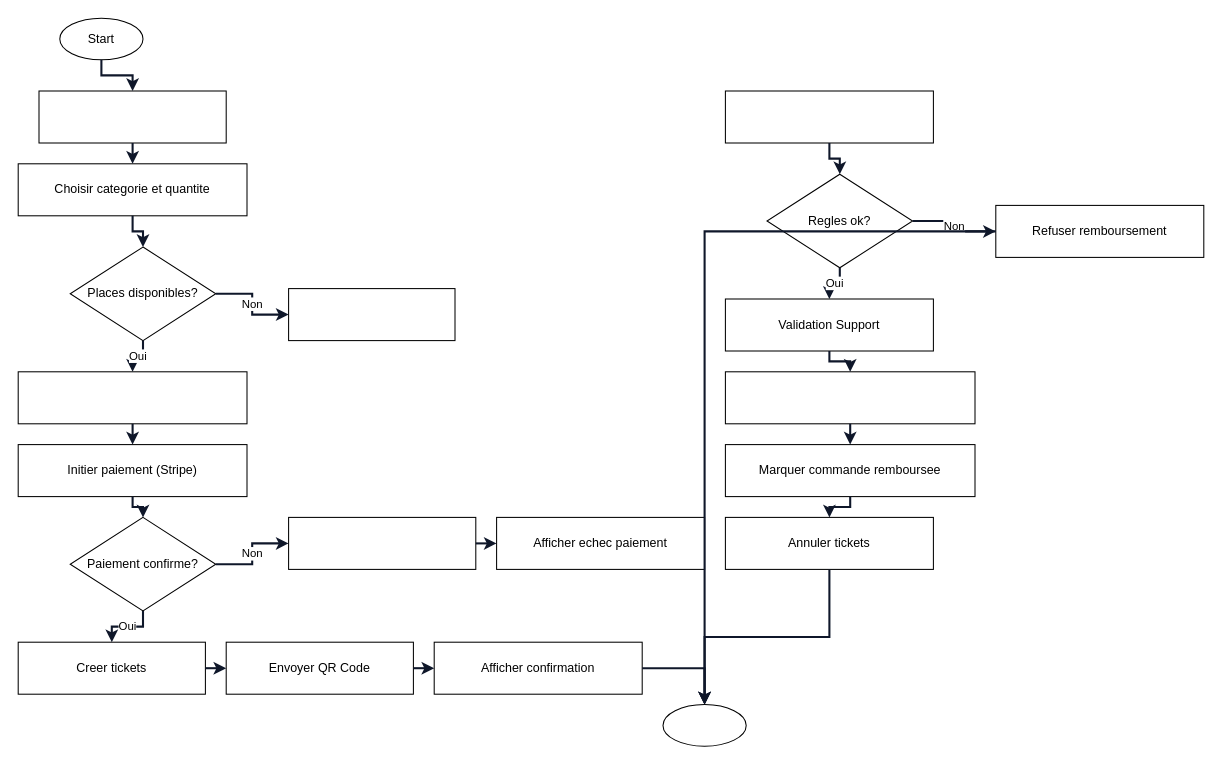
Some shapes in this 1222 by 764 pixel diagram are drawn without their labels. Here are the shapes that lost their labels. From the top down, the centre of each, then its label:
At point (132, 116): "Selectionner evenement".
At point (828, 116): "Demande remboursement".
At point (371, 314): "Afficher complet".
At point (132, 397): "Creer brouillon commande".
At point (849, 397): "Declencher remboursement Stripe".
At point (382, 542): "Annuler commande".
At point (704, 725): "End".
